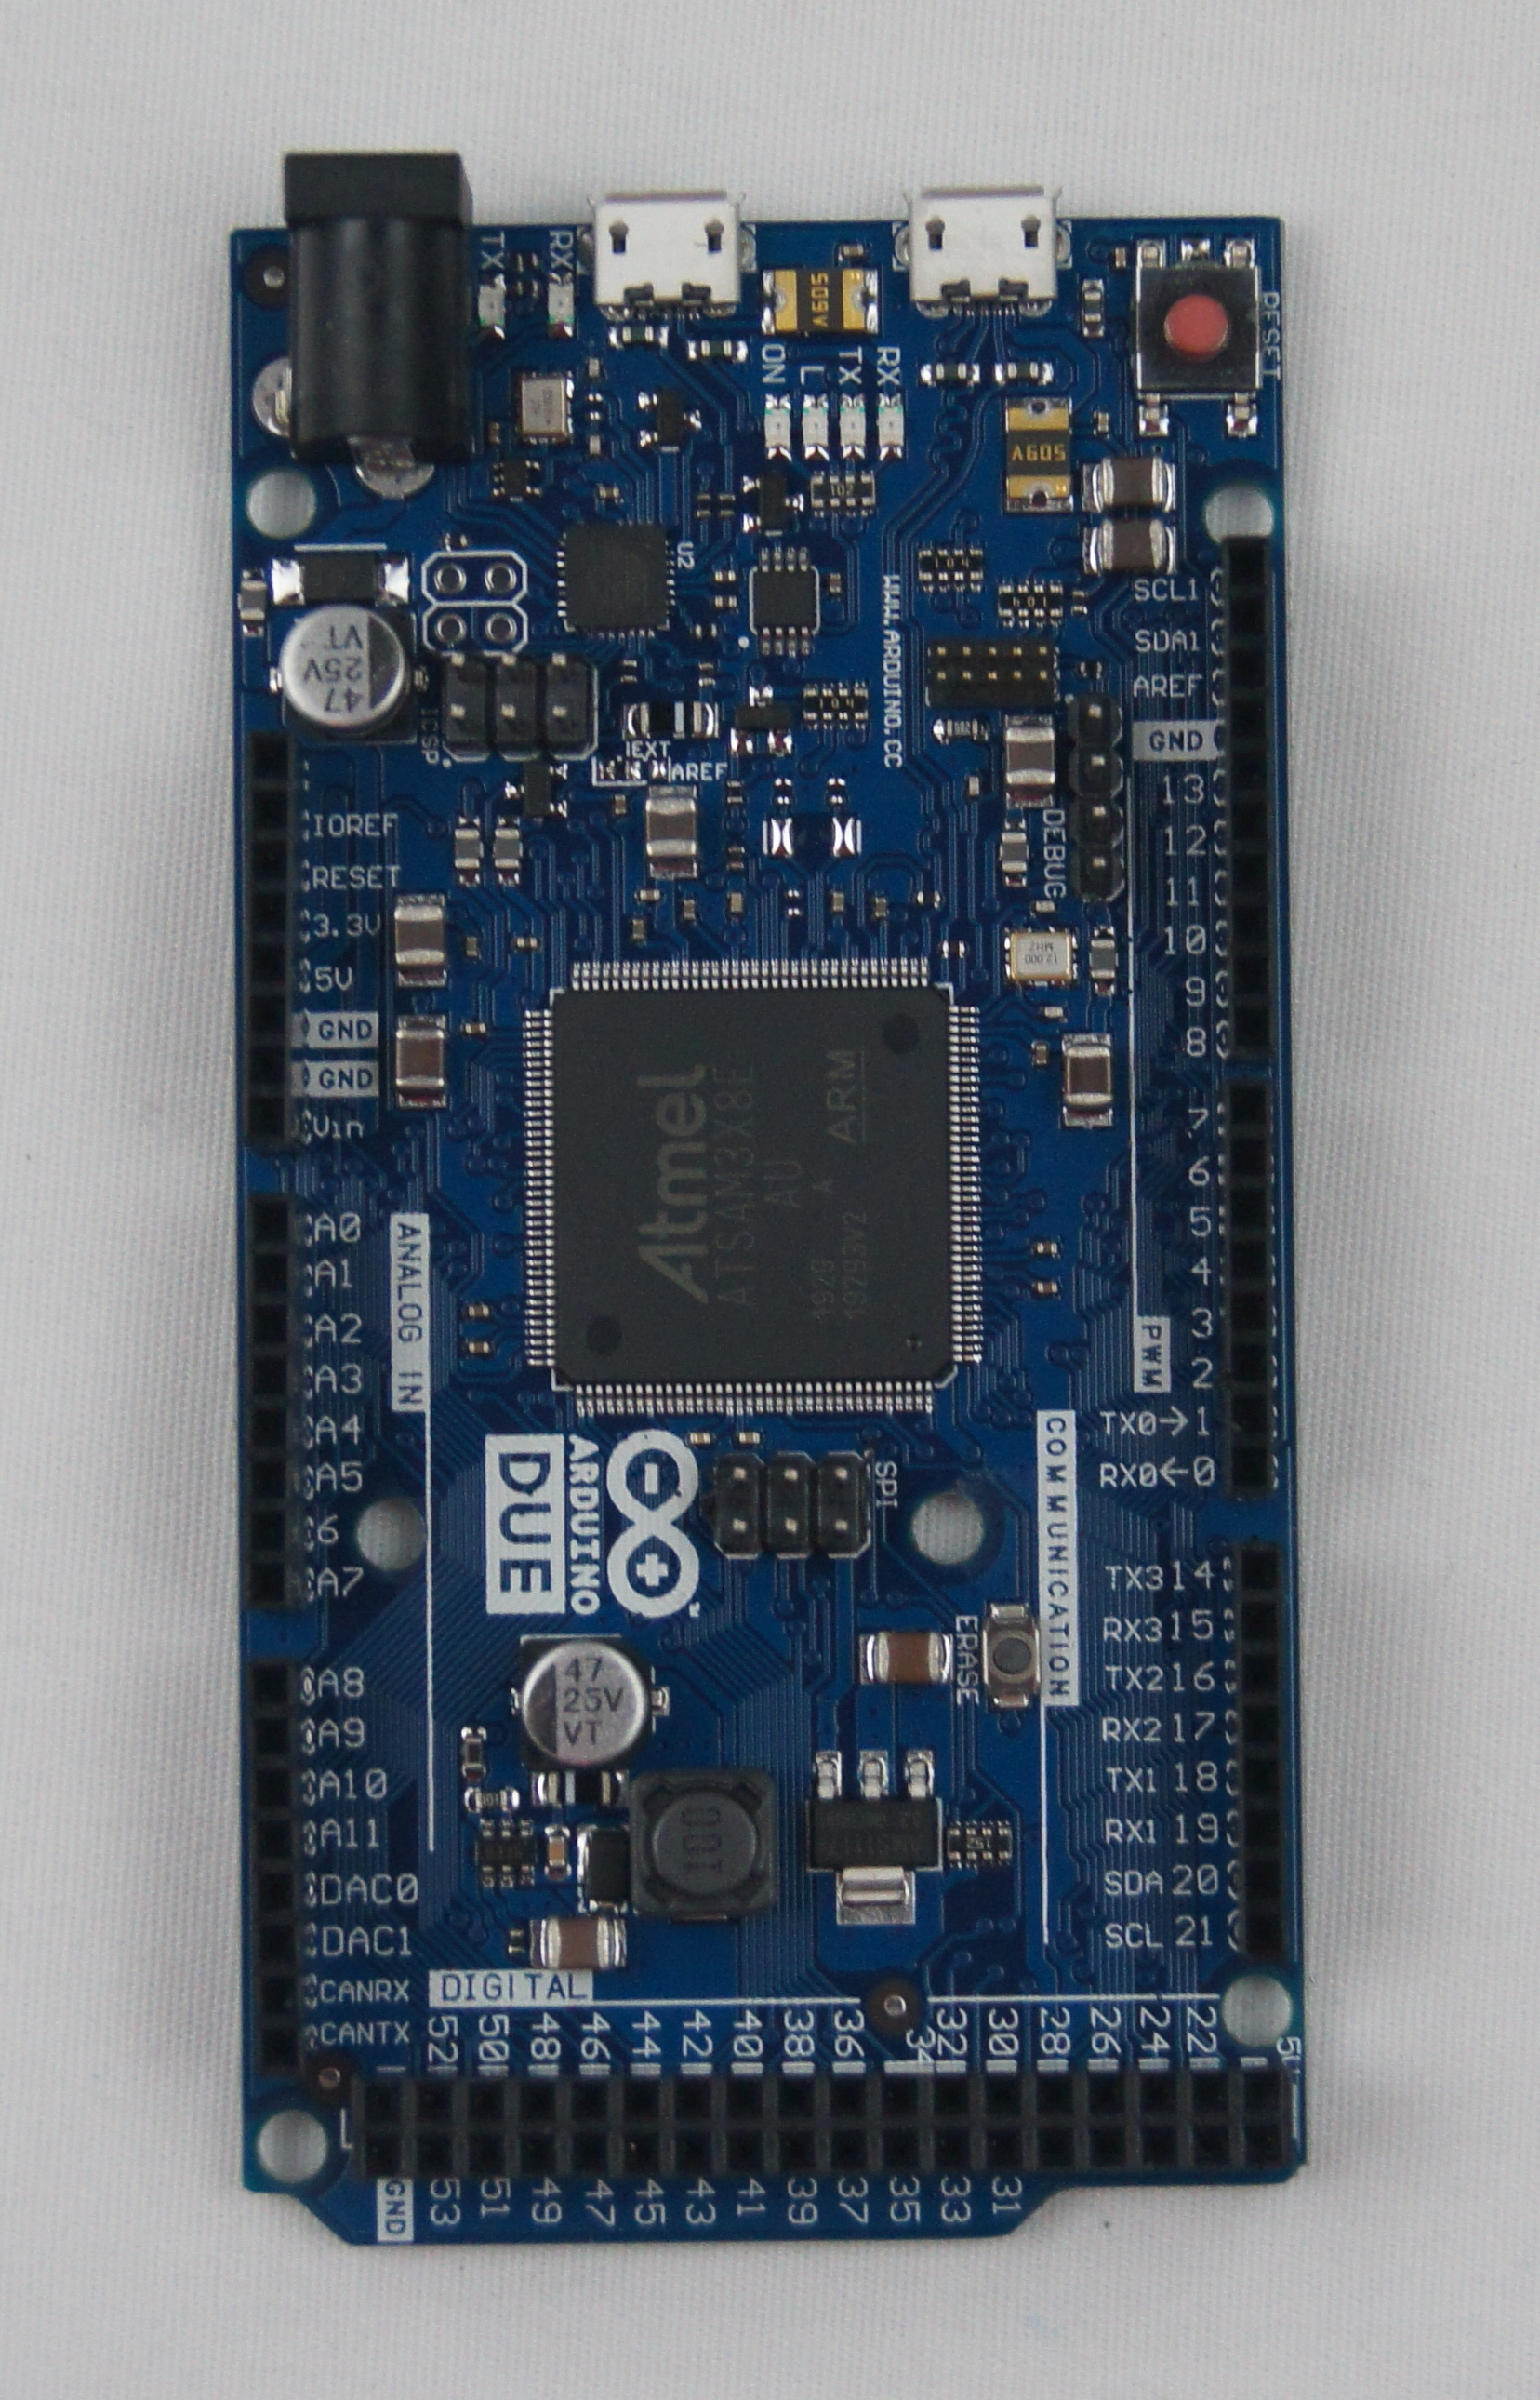kondensator: (274, 603, 425, 735), (510, 1634, 657, 1762), (531, 1919, 628, 1970), (393, 1023, 449, 1106), (390, 899, 446, 974), (1065, 1034, 1112, 1121), (1003, 722, 1058, 798), (1086, 521, 1175, 567), (867, 1630, 946, 1679), (649, 789, 694, 869), (1087, 460, 1169, 502), (453, 822, 481, 875), (493, 824, 521, 873), (238, 577, 264, 624), (1077, 285, 1101, 329), (725, 890, 752, 920), (545, 1826, 563, 1868), (467, 1340, 502, 1357), (507, 934, 545, 950), (1093, 408, 1112, 436), (1112, 245, 1131, 271), (463, 1018, 495, 1034), (829, 889, 848, 913), (827, 570, 844, 597), (708, 565, 736, 581), (596, 485, 619, 504), (876, 894, 890, 924), (708, 593, 734, 609), (685, 897, 701, 924), (628, 918, 645, 939), (635, 887, 661, 899), (841, 241, 864, 255), (465, 1305, 493, 1315), (463, 938, 477, 957), (1031, 1044, 1044, 1064)
